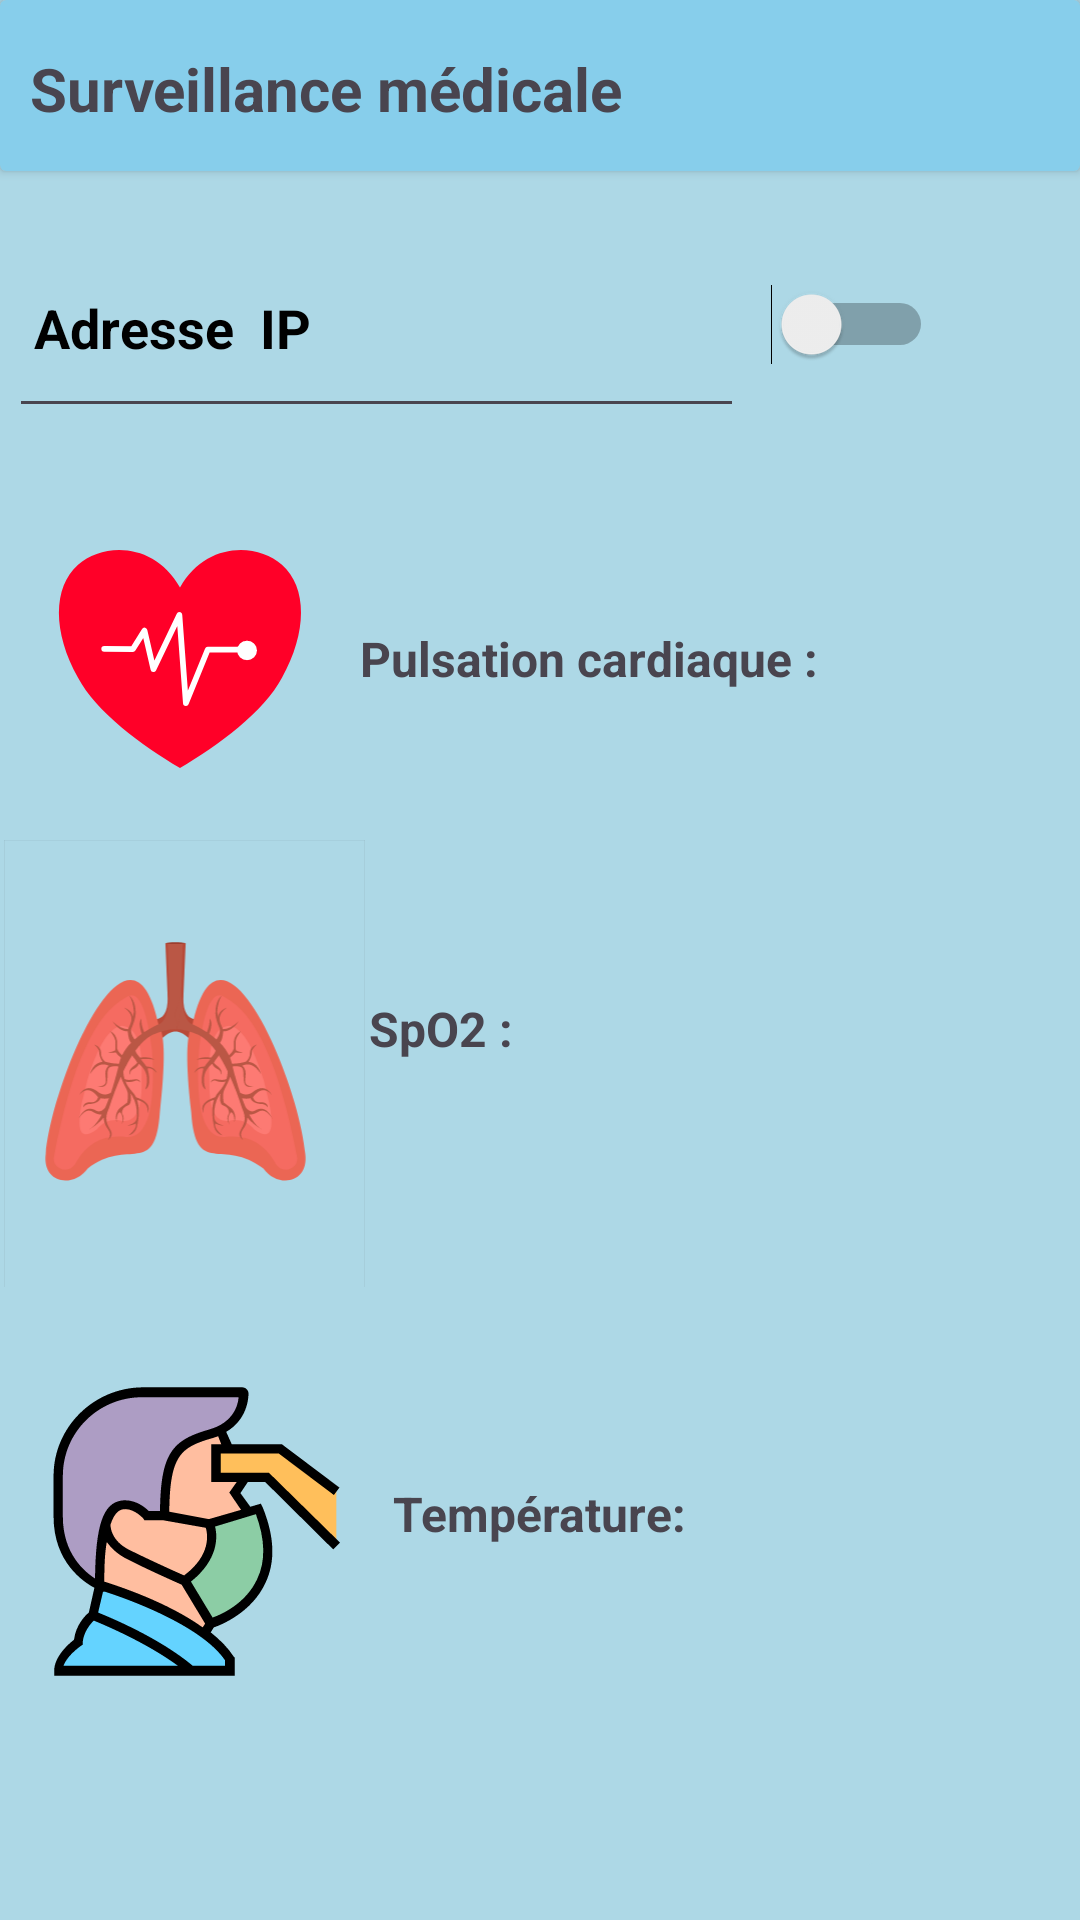

Icons on this 1080px x 1920px Android screen, each with its box as bbox(x1, y1, x2, y2):
check body temperature: bbox(53, 1387, 340, 1676)
frequencecardiaque: bbox(59, 550, 301, 768)
